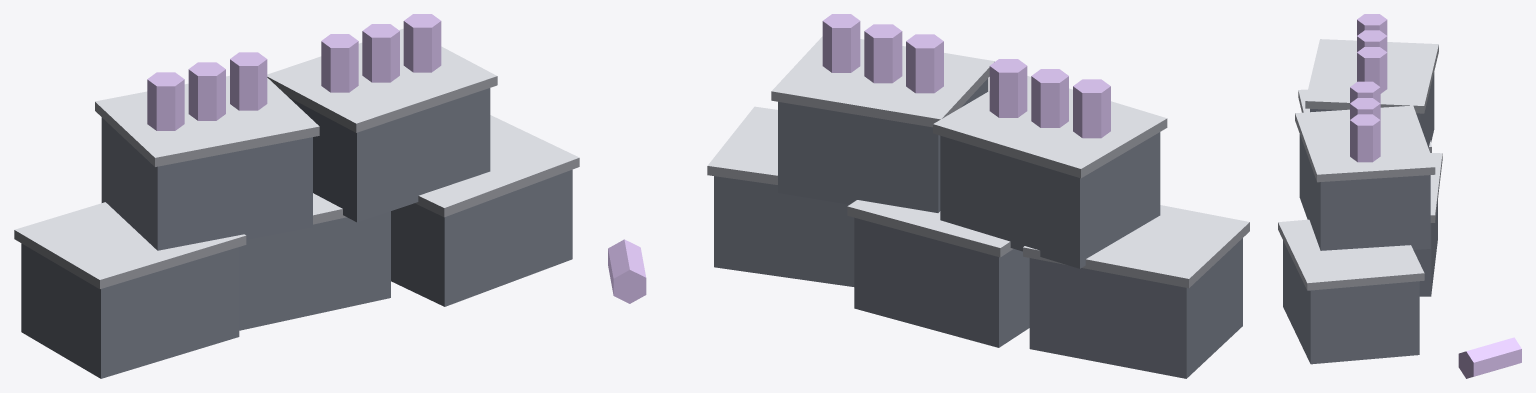
File: PR_Pilha_Celulas.fbx
3 views of the same model, side by side, from view 1: azimuth 30°, elevation 25°; view 2: azimuth 150°, elevation 25°; view 3: azimuth 270°, elevation 25° (orthographic). The views are drawn at different scales.
Parts seen in each view (by area): view 1: PR_Pilha_Celulas; view 2: PR_Pilha_Celulas; view 3: PR_Pilha_Celulas.
Boxes of the visible parts, x1,y1,x2,y2 form: PR_Pilha_Celulas: [14, 14, 579, 378]; PR_Pilha_Celulas: [608, 14, 1249, 378]; PR_Pilha_Celulas: [1278, 14, 1521, 378].
Bounding box in the file's own units: 3.67 × 1.57 × 1.75.
